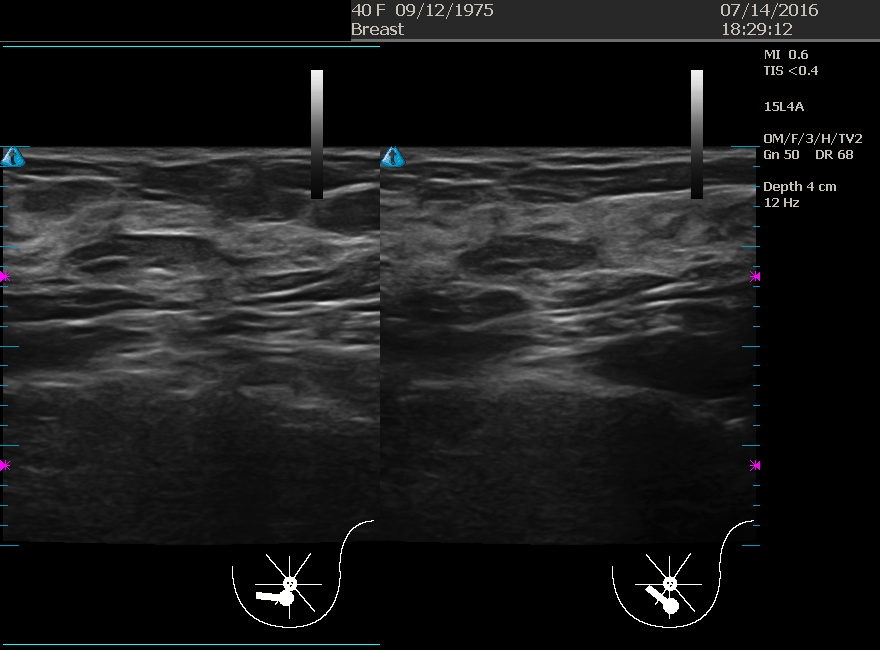BIRADS_3: (29, 150, 229, 350), (418, 182, 618, 382)
